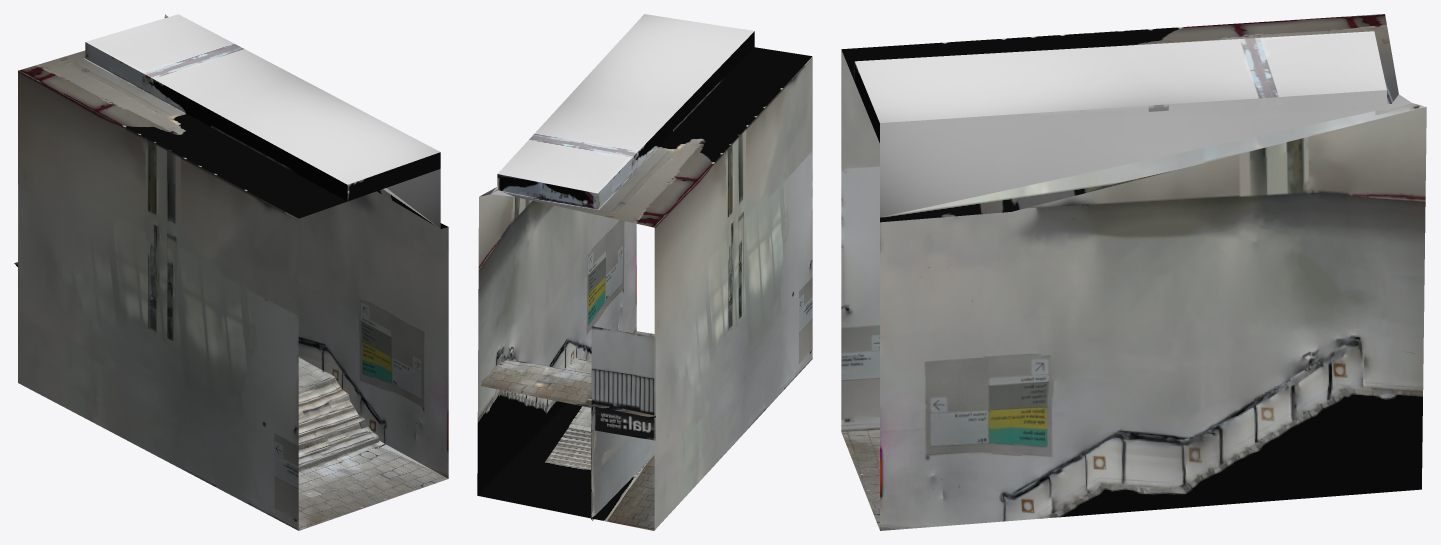
File: Main_stairs_LP.fbx
3 renders of one model, left to right at view 1: azimuth 30°, elevation 25°; view 2: azimuth 150°, elevation 25°; view 3: azimuth 270°, elevation 25°, orthographic. The views are drawn at different scales.
Visible parts, largest first — view 1: Main stairs LP; view 2: Main stairs LP; view 3: Main stairs LP.
Part boxes in pixels (bbox=[...]): Main stairs LP: bbox=[14, 14, 448, 530]; Main stairs LP: bbox=[477, 14, 812, 530]; Main stairs LP: bbox=[841, 14, 1426, 530].
Bounding box in the file's own units: 751 × 1044 × 1366.
1 material, 1 textured.
